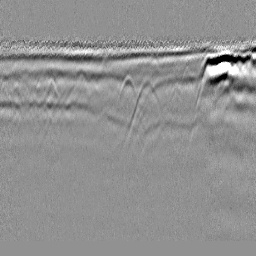cavity: (117, 73, 137, 101)
